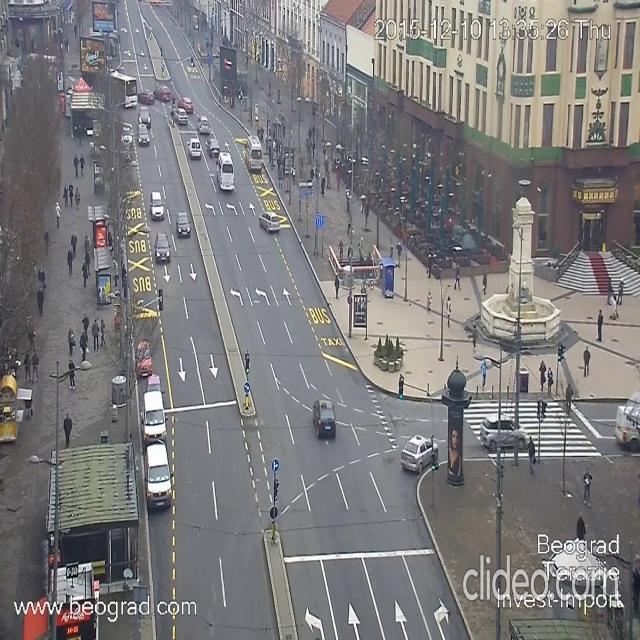bus: (105, 68, 137, 108), (217, 151, 233, 192), (246, 132, 262, 170)
car: (480, 417, 530, 451), (144, 445, 171, 503), (400, 434, 438, 474), (142, 386, 168, 436), (614, 402, 640, 450), (312, 399, 336, 439), (137, 336, 151, 372), (148, 188, 166, 216), (258, 211, 280, 233), (153, 235, 170, 261), (176, 210, 190, 237), (138, 127, 152, 149), (187, 137, 199, 161), (180, 91, 194, 111), (139, 109, 154, 127), (172, 108, 186, 124), (148, 372, 160, 388), (154, 84, 166, 100), (138, 92, 152, 105), (197, 119, 211, 132), (208, 135, 216, 154), (123, 131, 131, 149)
